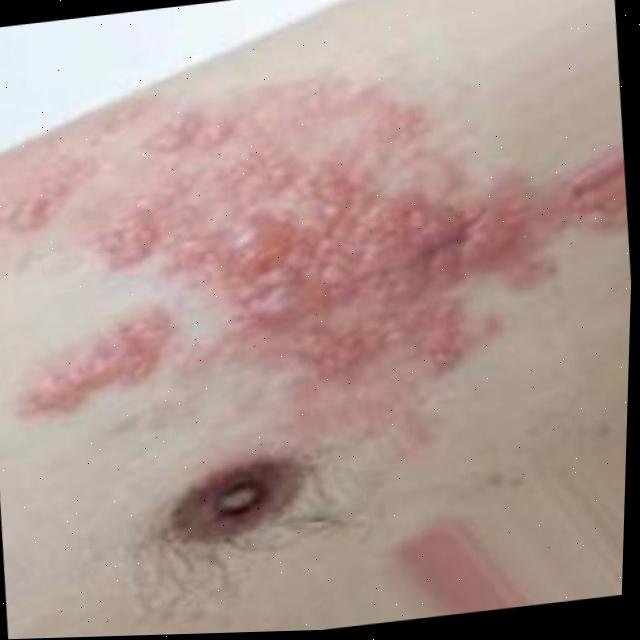Shingles: (0, 70, 574, 422)
